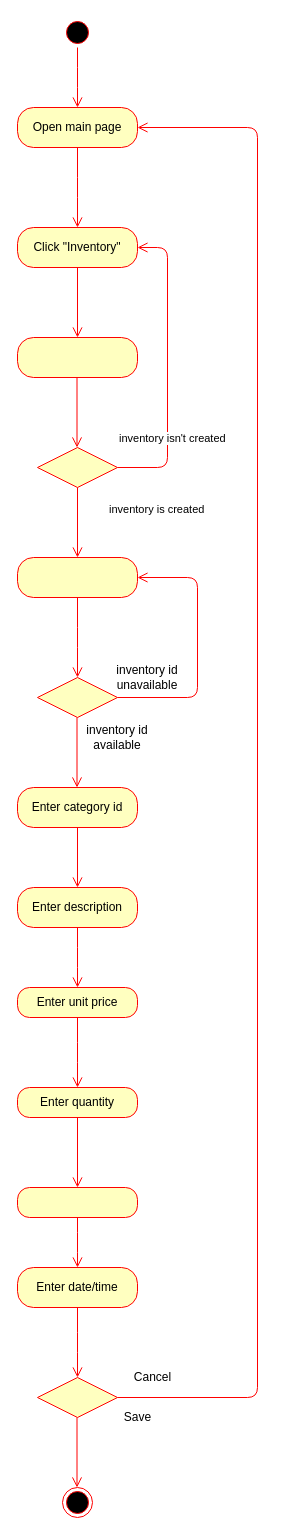
Some shapes in this 285 by 1535 pixel diagram are drawn without their labels. The centre of each missing label's shape, as x and y in pixels:
Enter inventory id: (x=77, y=577)
Enter inventory value: (x=77, y=1202)
Select list: (x=77, y=357)
